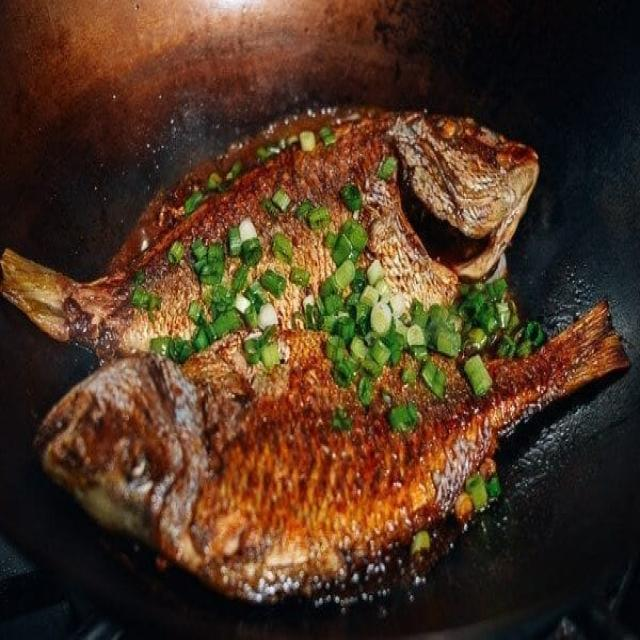Peixe: (1, 99, 632, 608), (1, 101, 542, 366)
